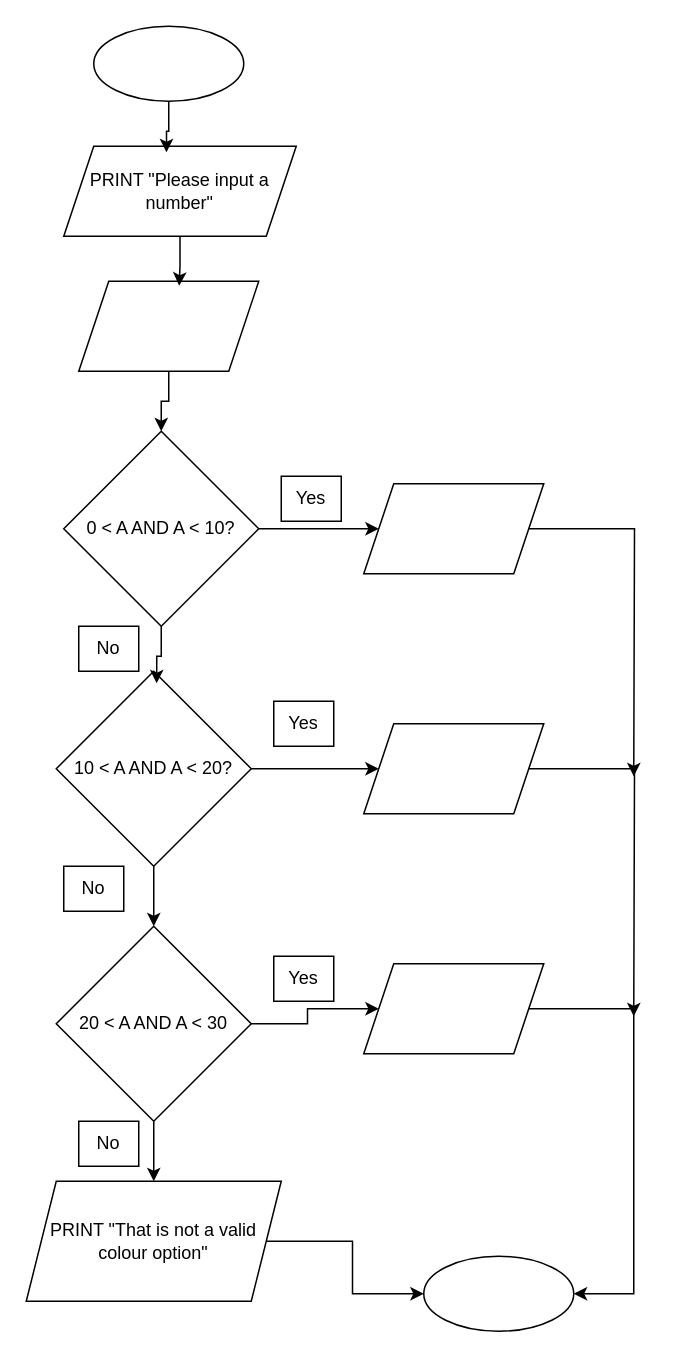
Some shapes in this 674 by 1358 pixel diagram are drawn without their labels. Each missing label, with the centre of its shape:
END: point (498, 1293)
INPUT A: point (168, 325)
PRINT "BLUE": point (453, 528)
PRINT "GREEN": point (453, 1008)
PRINT "RED": point (453, 768)
START: point (168, 63)
